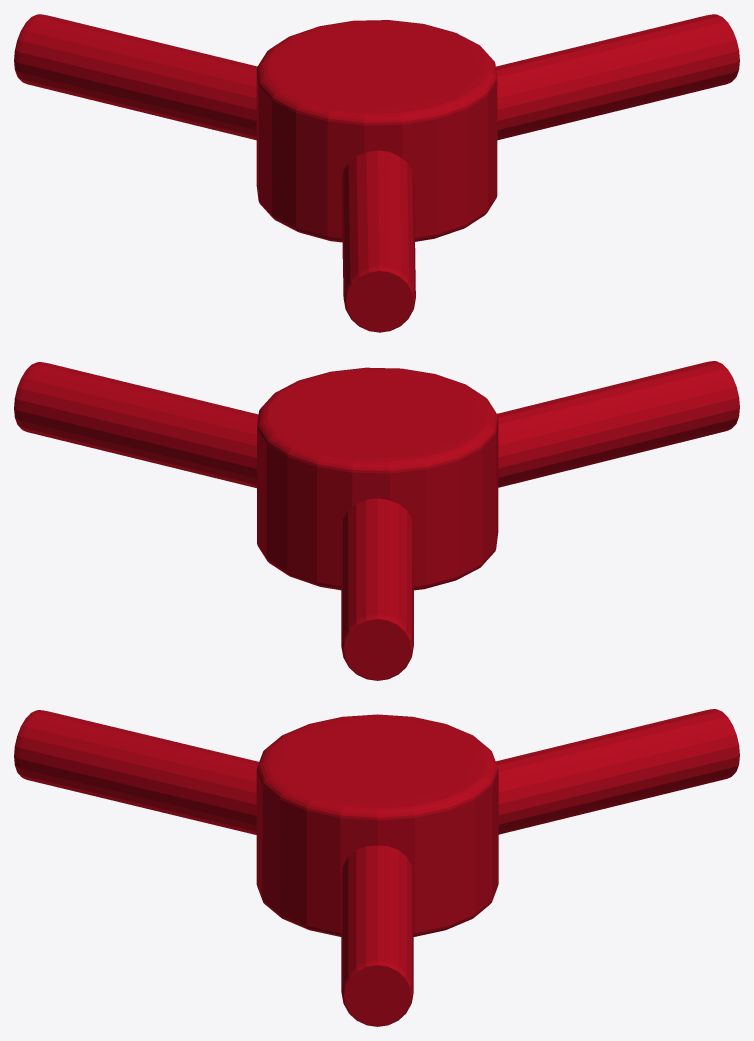
File: Turnstiles.fbx
The picture shows the model from 3 angles, top to bottom: view 1: azimuth 30°, elevation 25°; view 2: azimuth 150°, elevation 25°; view 3: azimuth 270°, elevation 25°; orthographic projection.
Parts seen in each view (by area): view 1: Turnstiles; view 2: Turnstiles; view 3: Turnstiles.
Part boxes in pixels (x1,y1,x2,y2): Turnstiles: [14, 14, 739, 332]; Turnstiles: [14, 361, 739, 680]; Turnstiles: [14, 709, 739, 1026].
Bounding box in the file's own units: 2.6 × 0.6 × 3.
